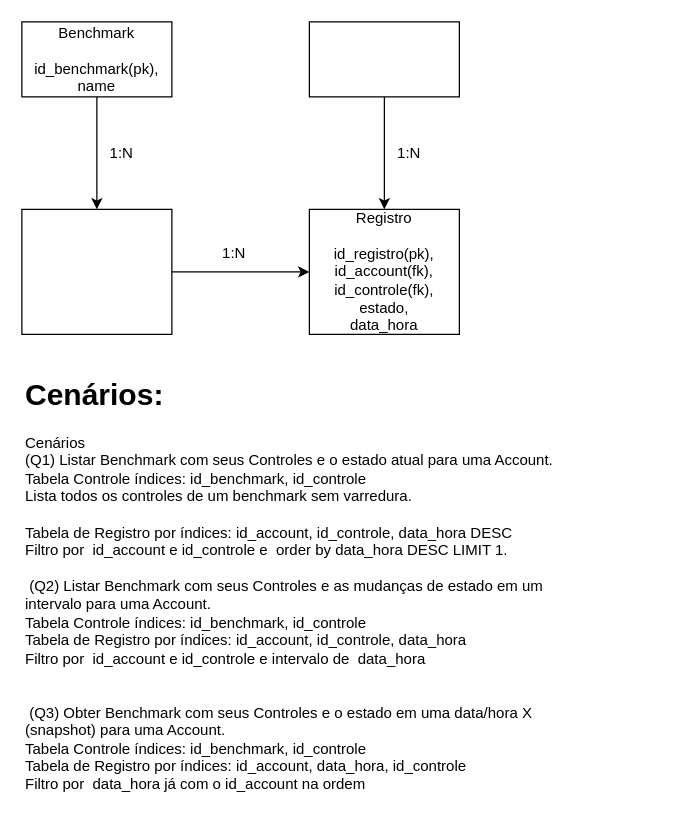
The diagram is 694 pixels wide and 823 high, and some of its shapes have lost their labels. Here are the shapes that lost their labels. From the top down, the centre of each, then its label:
point (383, 59): Account id_account(pk), name
point (96, 271): Controle id_contole(pk), id_benchmark(fk), name, description
